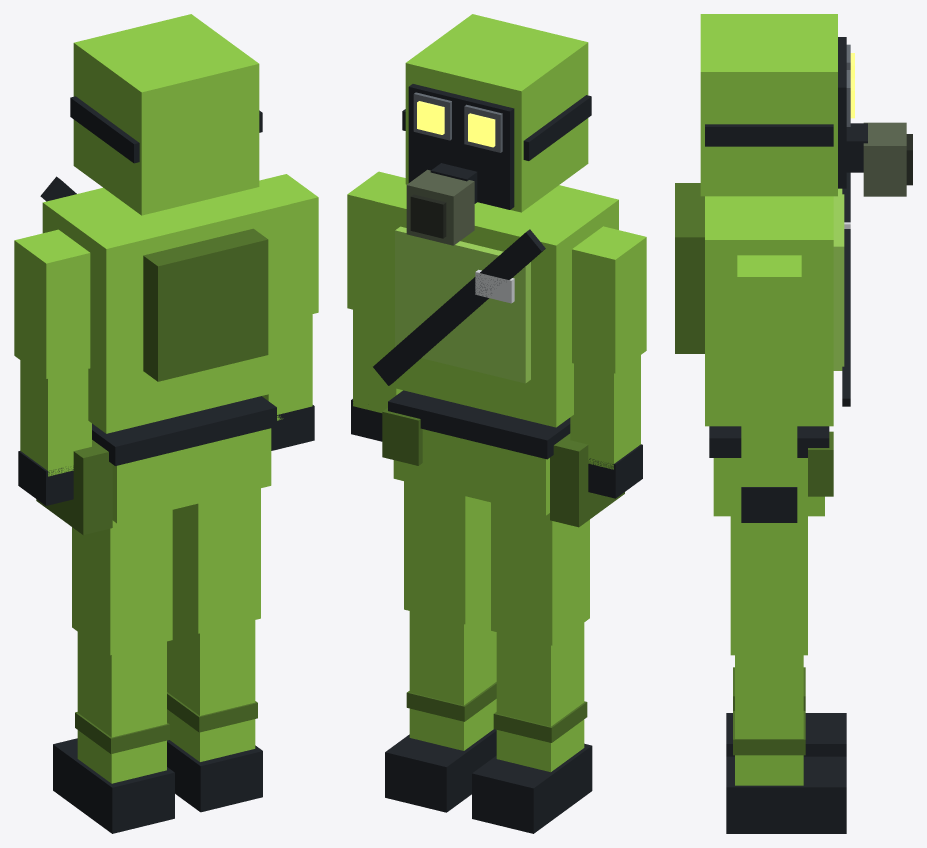
The model's file is gas_mask_lime.glb.
3 views of the same model, side by side, from view 1: azimuth 30°, elevation 25°; view 2: azimuth 150°, elevation 25°; view 3: azimuth 270°, elevation 25° (orthographic). The views are drawn at different scales.
Visible parts, largest first — view 1: Merged4, Merged, Merged7, Merged5, Merged6, _MeshInstance3D_1590, _MeshInstance3D_1601, _MeshInstance3D_1585, Merged2, _MeshInstance3D_1596, Merged3; view 2: Merged4, Merged, Merged7, Merged5, Merged6, _MeshInstance3D_1590, _MeshInstance3D_1601, _MeshInstance3D_1585, Merged2, _MeshInstance3D_1596, Merged3; view 3: Merged, Merged4, Merged6, _MeshInstance3D_1601, _MeshInstance3D_1596, Merged3, Merged7, Merged5.
Part boxes in pixels (x1,y1,x2,y2): Merged4: (40, 176, 290, 433); Merged: (70, 14, 262, 215); Merged7: (36, 396, 276, 534); Merged5: (53, 632, 174, 833); Merged6: (167, 615, 262, 812); _MeshInstance3D_1590: (72, 510, 172, 655); _MeshInstance3D_1601: (172, 488, 260, 633); _MeshInstance3D_1585: (14, 229, 90, 378); Merged2: (18, 360, 91, 505); _MeshInstance3D_1596: (259, 174, 318, 319); Merged3: (262, 314, 314, 450); Merged4: (373, 179, 618, 427); Merged: (402, 14, 591, 245); Merged7: (382, 390, 624, 527); Merged5: (472, 623, 592, 833); Merged6: (385, 606, 496, 812); _MeshInstance3D_1590: (491, 502, 589, 645); _MeshInstance3D_1601: (404, 481, 490, 624); _MeshInstance3D_1585: (572, 226, 646, 373); Merged2: (570, 355, 642, 498); _MeshInstance3D_1596: (347, 171, 405, 314); Merged3: (351, 309, 402, 441); Merged: (700, 14, 912, 196); Merged4: (675, 172, 850, 426); Merged6: (726, 655, 846, 833); _MeshInstance3D_1601: (730, 516, 807, 655); _MeshInstance3D_1596: (737, 255, 801, 393); Merged3: (741, 393, 797, 522); Merged7: (709, 426, 833, 516); Merged5: (726, 667, 846, 756).
Bounding box in the file's own units: 0.74 × 1.94 × 0.555.
